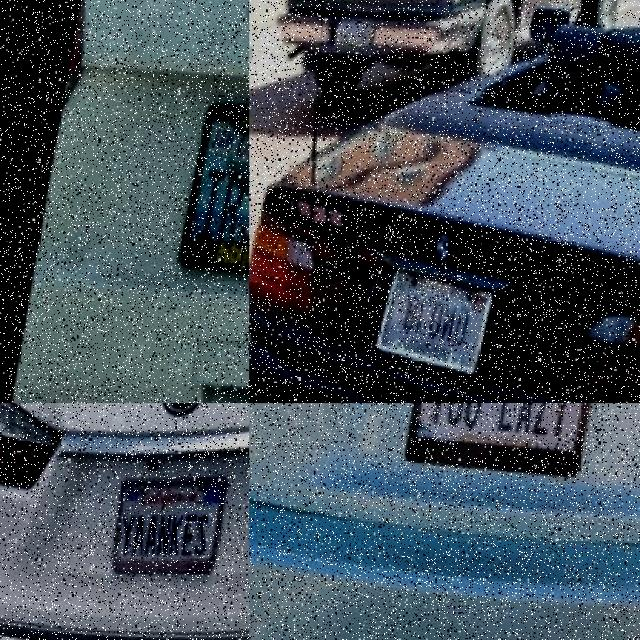licenseplate: (404, 403, 592, 484), (106, 469, 232, 588), (177, 94, 249, 295), (378, 263, 493, 372), (329, 15, 383, 58)
